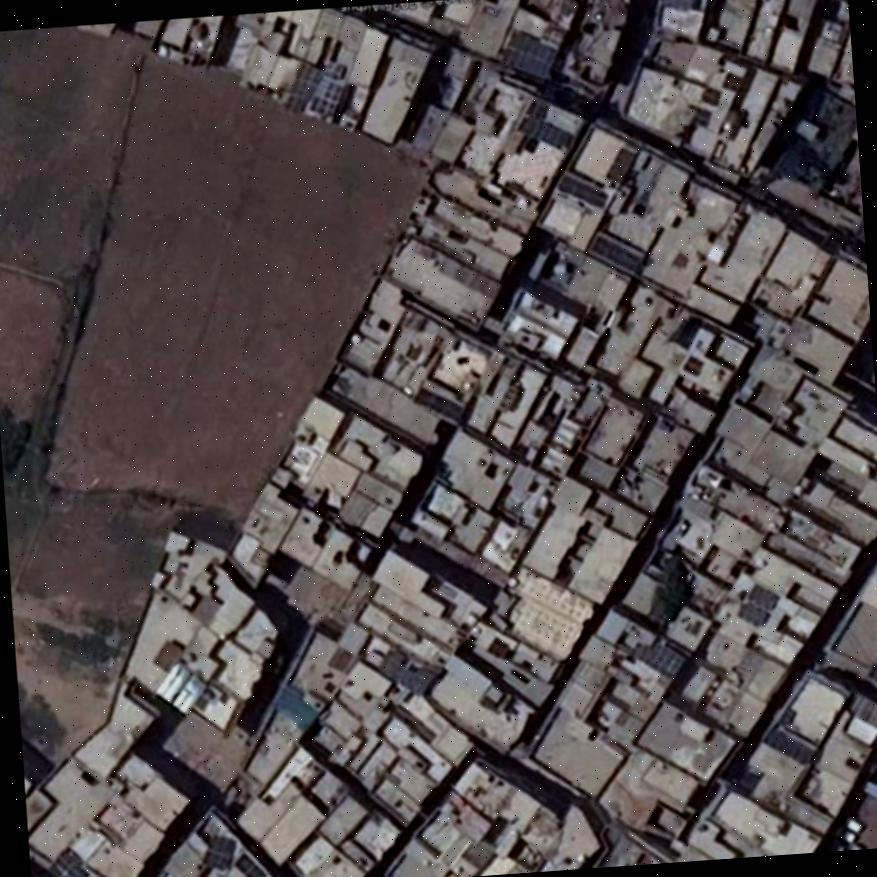Solarpanel: (499, 30, 556, 76), (589, 236, 640, 268), (557, 176, 603, 206), (641, 644, 681, 678), (526, 117, 567, 149), (46, 849, 86, 877), (201, 836, 234, 869)
